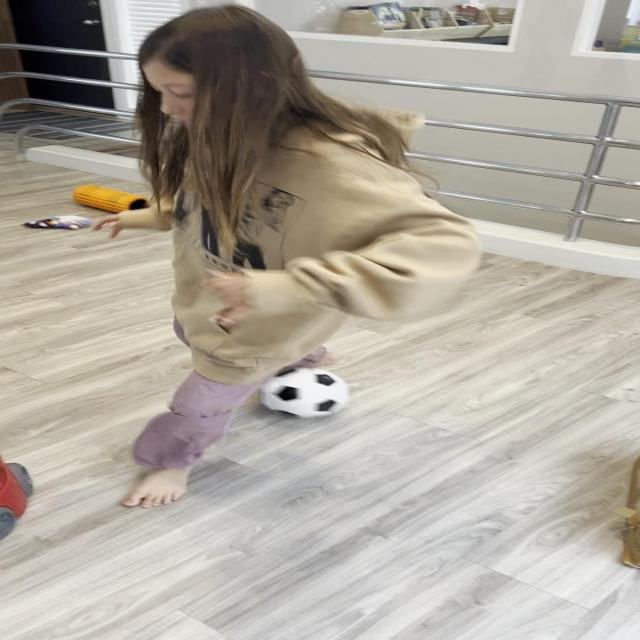Soccer Ball: (257, 366, 349, 418)
